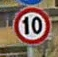limite 10: (12, 7, 51, 44)
